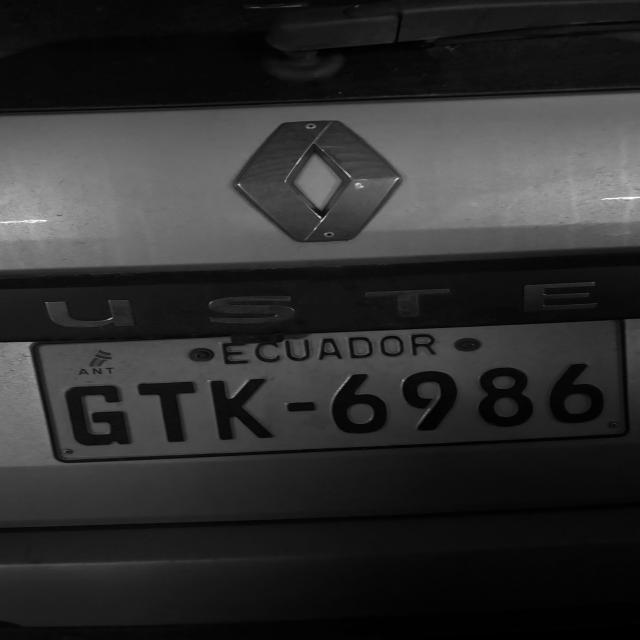Placa: (35, 321, 625, 460)
